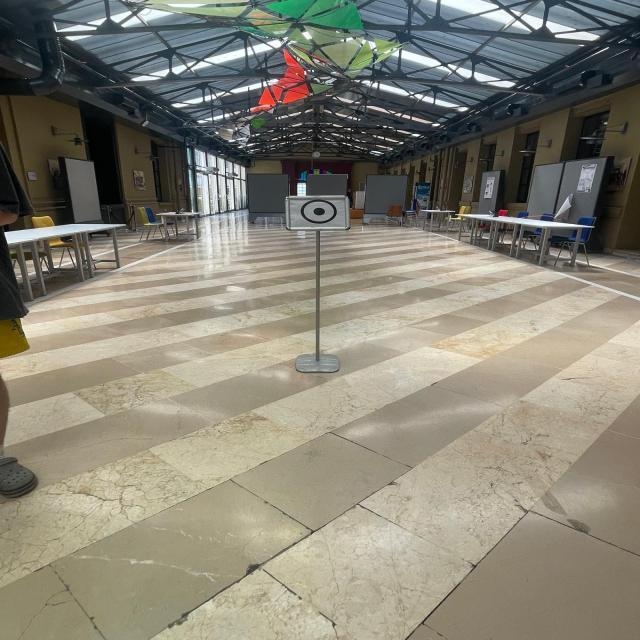Target: (270, 184, 367, 237)
inner: (310, 205, 329, 219)
